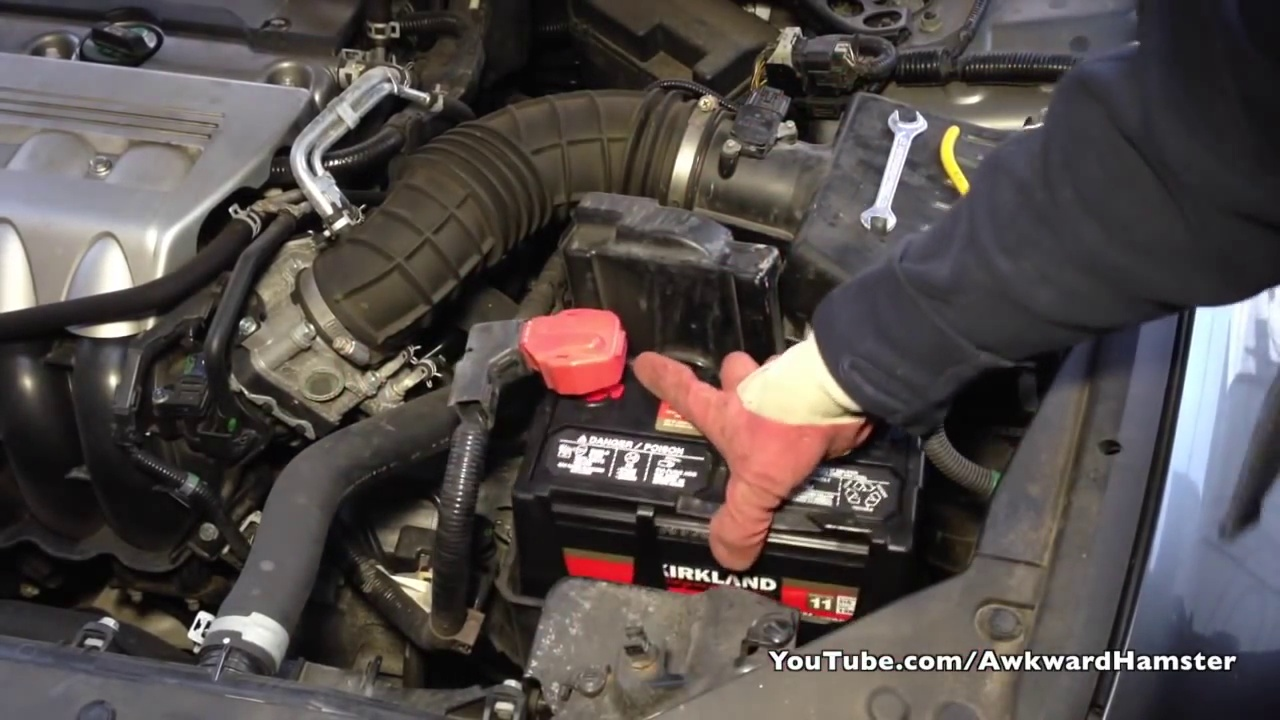battery: (512, 324, 915, 562)
neg_touched: (483, 284, 742, 457)
pos_connected: (479, 295, 637, 410)
